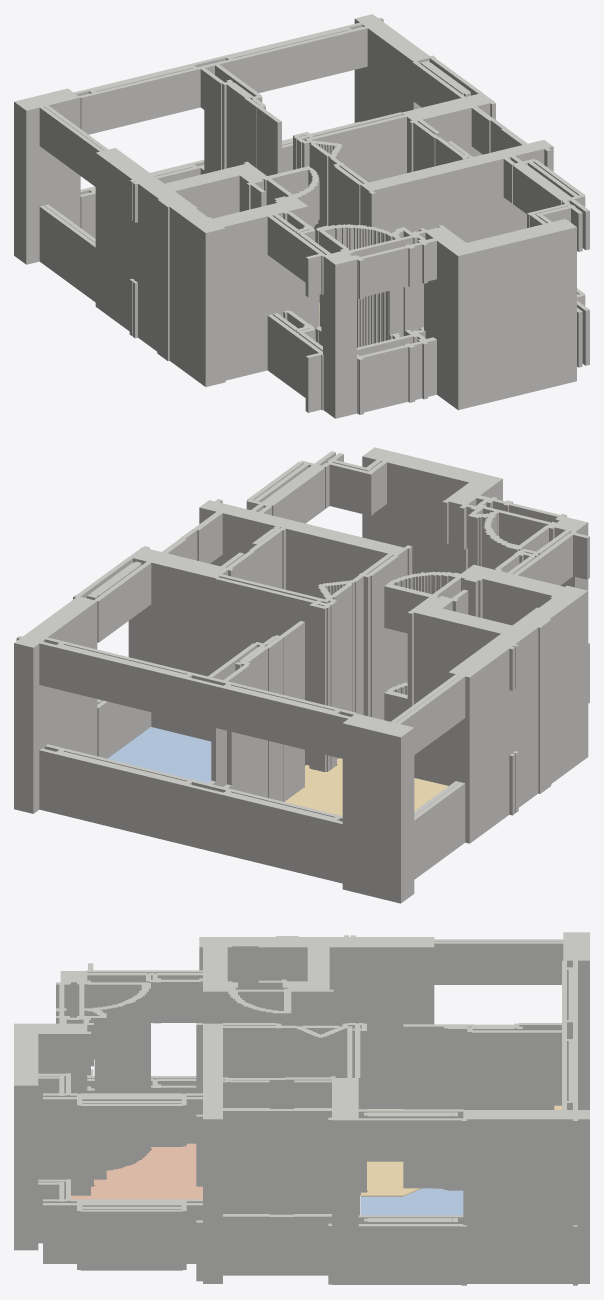
3 renders of one model, top to bottom at view 1: azimuth 30°, elevation 25°; view 2: azimuth 150°, elevation 25°; view 3: azimuth 270°, elevation 25°, orthographic. The views are drawn at different scales.
Parts seen in each view (by area): view 1: walls; view 2: walls, room:bedroom:2, room:living:1; view 3: walls, room:kitchen:7, room:bedroom:2, room:living:1.
Boxes of the visible parts, box(x1,y1,x2,y2) form: walls: box(14, 14, 589, 418); walls: box(14, 447, 589, 903); room:bedroom:2: box(107, 727, 211, 783); room:living:1: box(285, 758, 448, 815); walls: box(14, 932, 589, 1285); room:kitchen:7: box(71, 1143, 202, 1199); room:bedroom:2: box(361, 1188, 463, 1215); room:living:1: box(361, 1109, 420, 1196).
Bounding box in the file's own units: 6.88 × 2.8 × 8.88.
